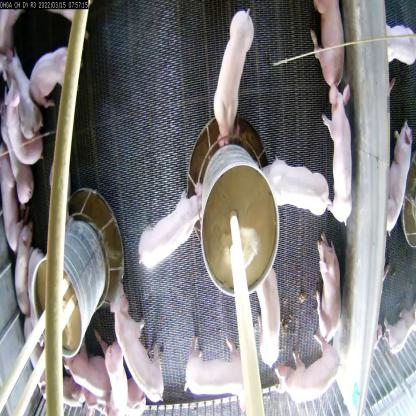Pig: (110, 280, 167, 407), (210, 5, 258, 152), (131, 179, 205, 269), (183, 332, 248, 415), (322, 83, 357, 230), (272, 336, 341, 406), (259, 155, 333, 220), (0, 48, 44, 139), (306, 0, 348, 94), (0, 113, 36, 208), (2, 84, 43, 167), (254, 272, 286, 375), (314, 230, 342, 344), (388, 115, 412, 236), (63, 340, 108, 404), (29, 41, 73, 102), (24, 320, 53, 405), (25, 243, 48, 347), (1, 147, 23, 254), (12, 216, 34, 318), (100, 338, 129, 415), (382, 22, 416, 68), (385, 308, 416, 356)
